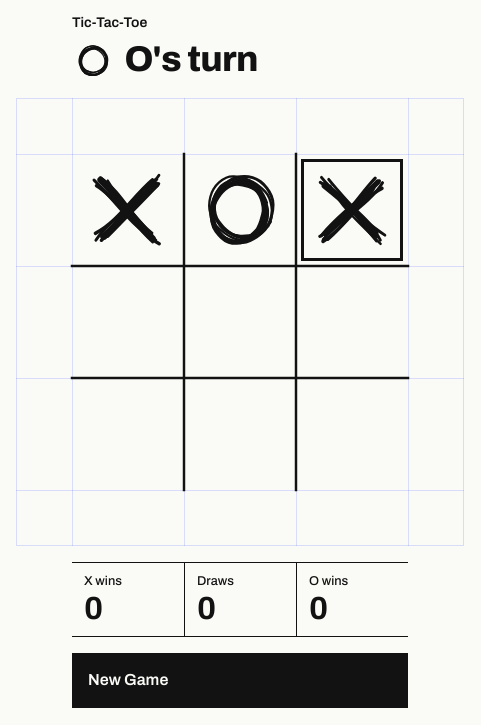
Scenario: <Game /> › announces a draw
Earlier steps of the test are not shown.
Step 1. Click the button named "Square 2,2, empty" → [240, 322], box 184,266 -> 296,378
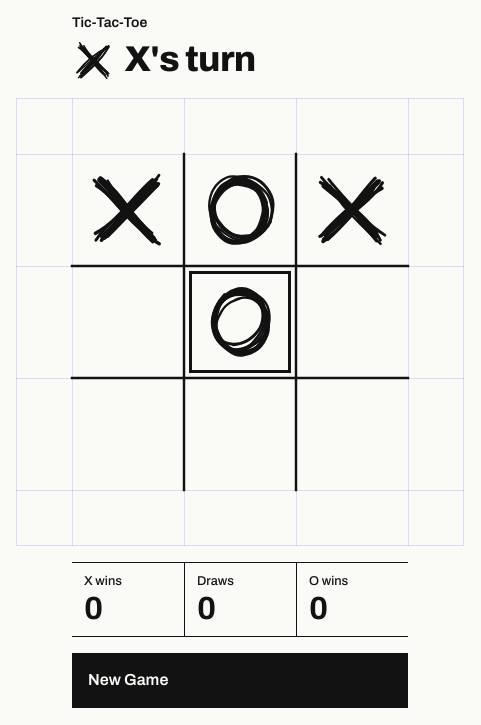
Step 2. Click the button named "Square 2,1, empty" → [128, 322], box 72,266 -> 184,378
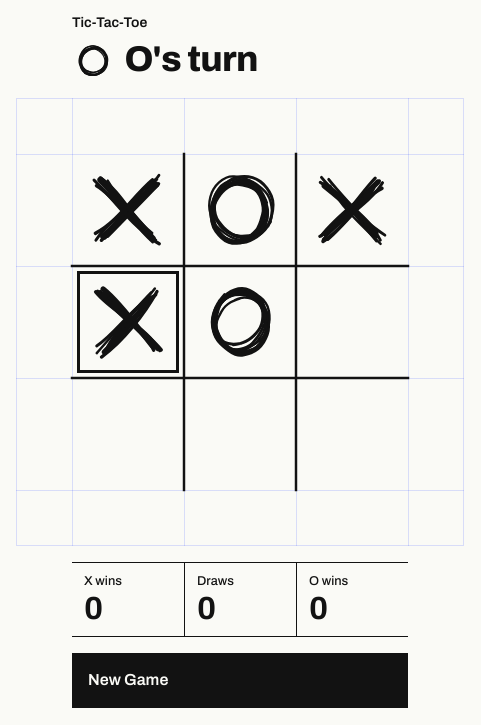
Step 3. Click the button named "Square 2,3, empty" → [352, 322], box 296,266 -> 408,378
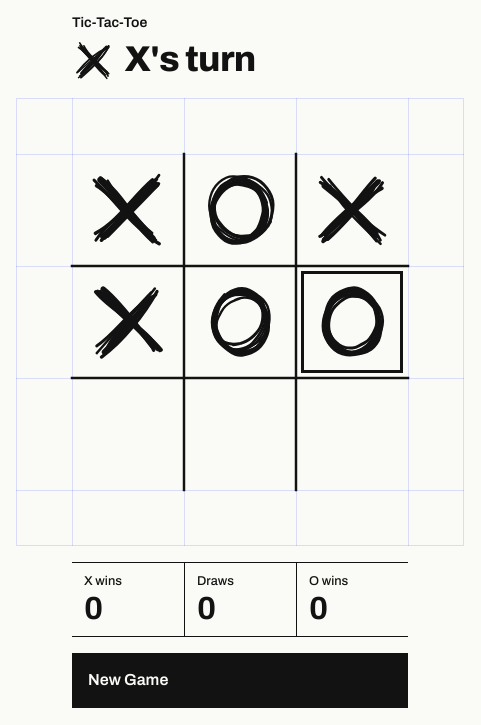
Step 4. Click the button named "Square 3,2, empty" → [240, 434], box 184,378 -> 296,490
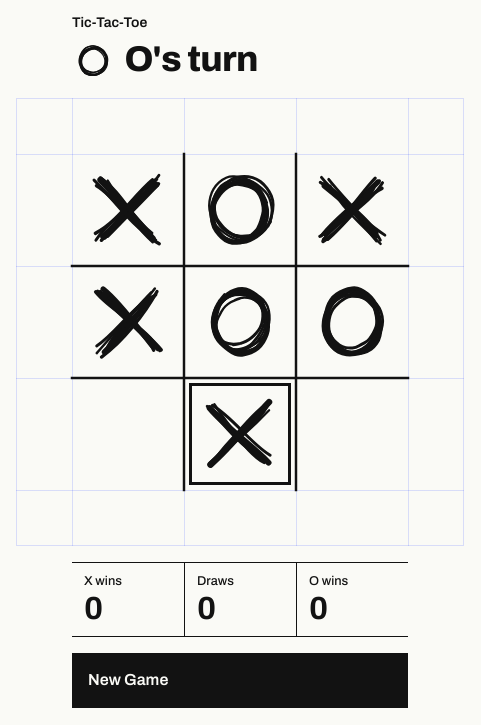
Step 5. Click the button named "Square 3,1, empty" → [128, 434], box 72,378 -> 184,490
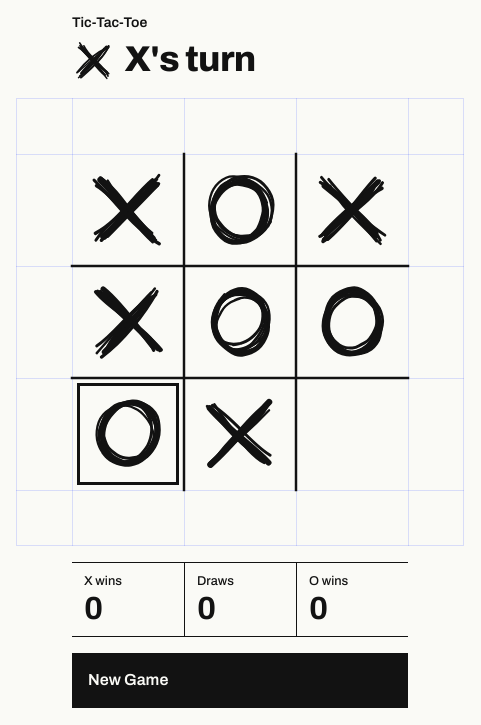
Step 6. Click the button named "Square 3,3, empty" → [352, 434], box 296,378 -> 408,490
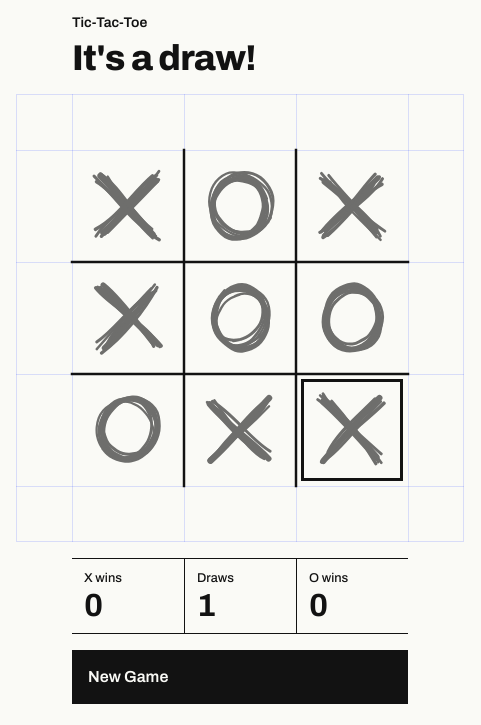
Expected: the message reads "It's a draw!", 72,39 -> 256,78
Expected: the text "1" is shown, 197,588 -> 216,623
